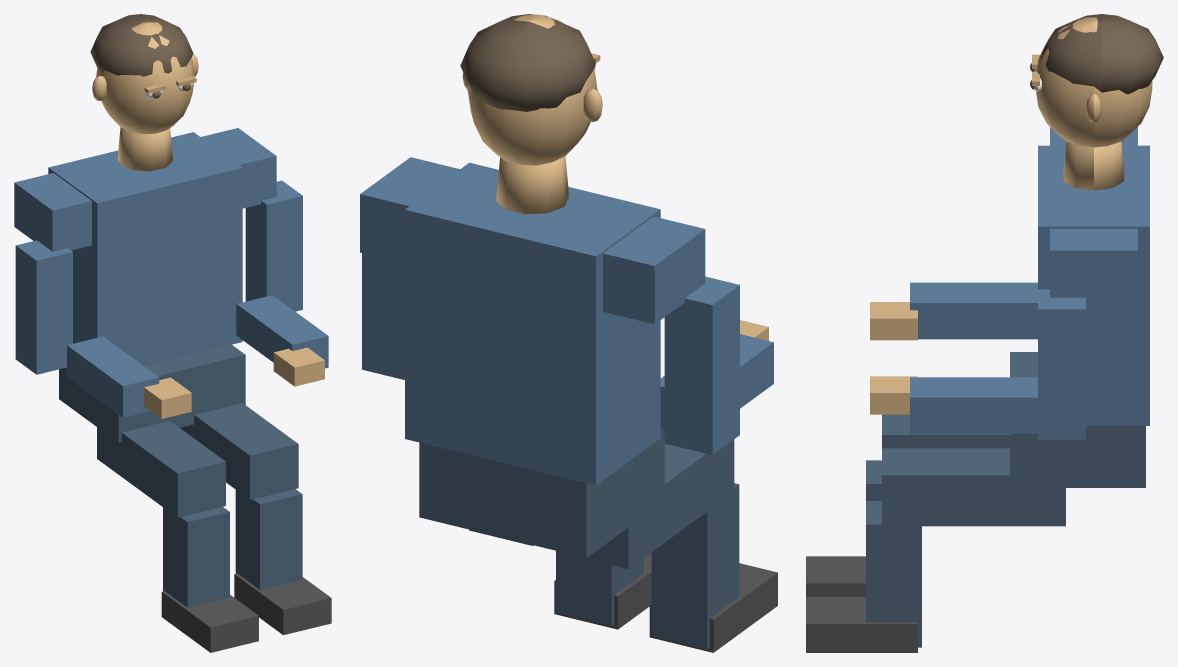
The model's file is interviewer_male_v1.glb.
3 views of the same model, side by side, from view 1: azimuth 30°, elevation 25°; view 2: azimuth 150°, elevation 25°; view 3: azimuth 270°, elevation 25° (orthographic). The views are drawn at different scales.
Parts seen in each view (by area): view 1: Chest, LowerBody, Skin, Shoes, Hair; view 2: Chest, LowerBody, Skin, Hair, Shoes; view 3: Chest, LowerBody, Skin, Shoes, Hair.
Part boxes in pixels (x1,y1,x2,y2): Chest: [14, 128, 328, 417]; LowerBody: [59, 344, 302, 607]; Skin: [92, 22, 324, 418]; Shoes: [161, 573, 331, 652]; Hair: [90, 14, 193, 76]; Chest: [360, 157, 773, 485]; LowerBody: [419, 428, 739, 649]; Skin: [462, 14, 768, 340]; Hair: [460, 14, 595, 111]; Shoes: [554, 552, 777, 652]; Chest: [910, 127, 1149, 439]; LowerBody: [866, 352, 1145, 647]; Skin: [870, 17, 1152, 414]; Shoes: [806, 556, 917, 652]; Hair: [1040, 14, 1163, 94].
Bounding box in the file's own units: 0.88 × 1.65 × 0.895.
